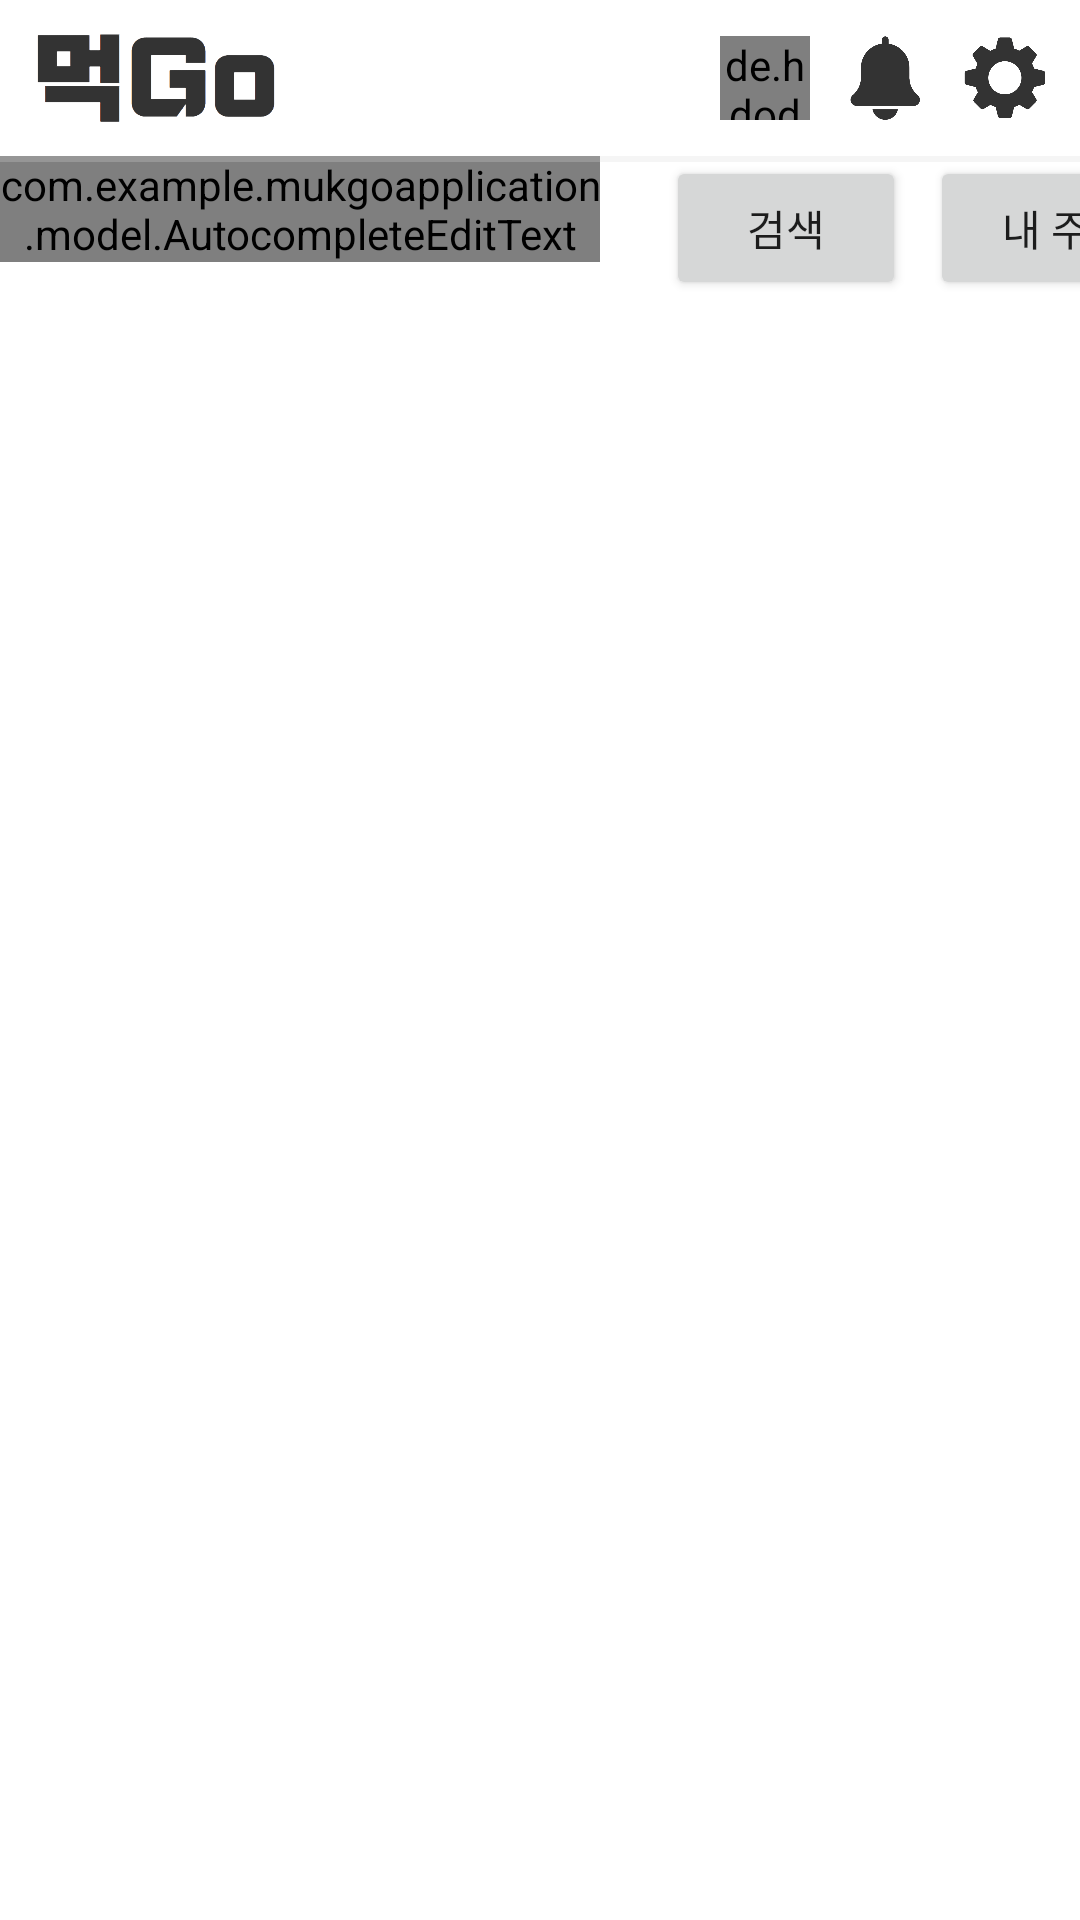

Screen size 1080px×1920px. Icon name, then its box in pixels as BBox(x1, y1, x2, y2):
alarm: BBox(850, 36, 920, 120)
setting: BBox(964, 37, 1045, 118)
